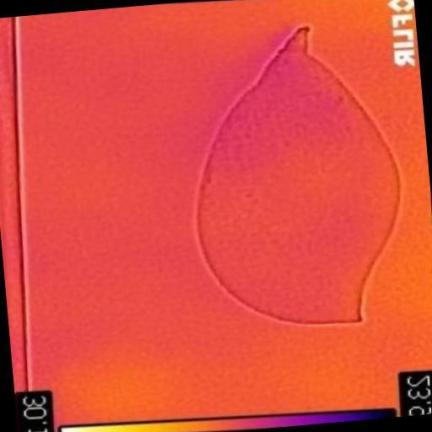mango: (198, 29, 397, 321)
